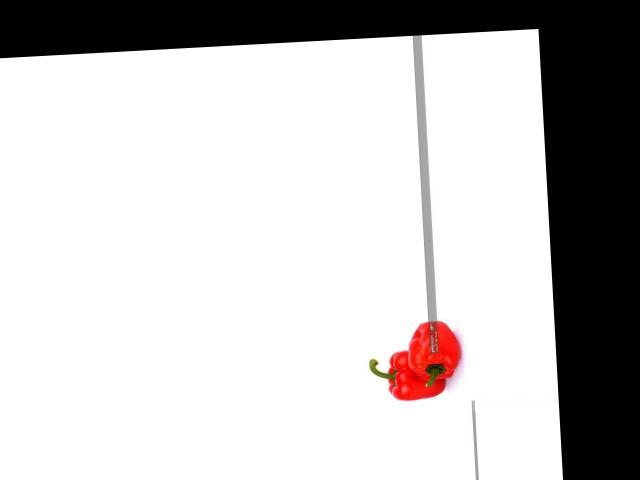bell_pepper: (401, 312, 461, 386)
